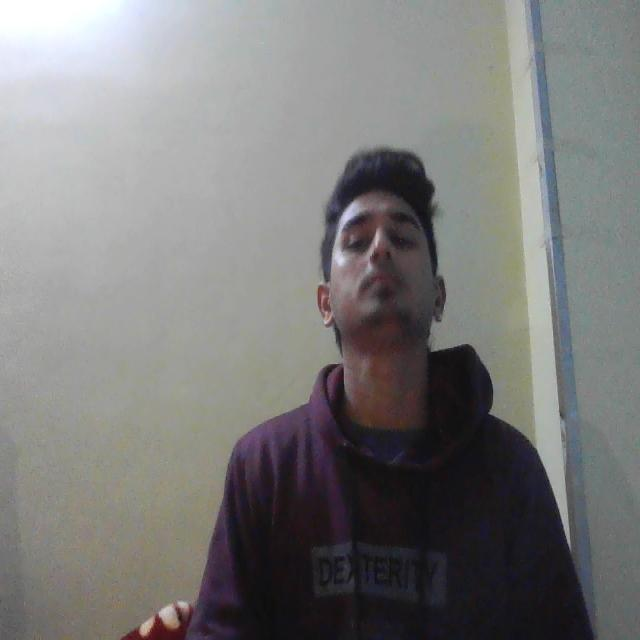real: (318, 120, 452, 373)
